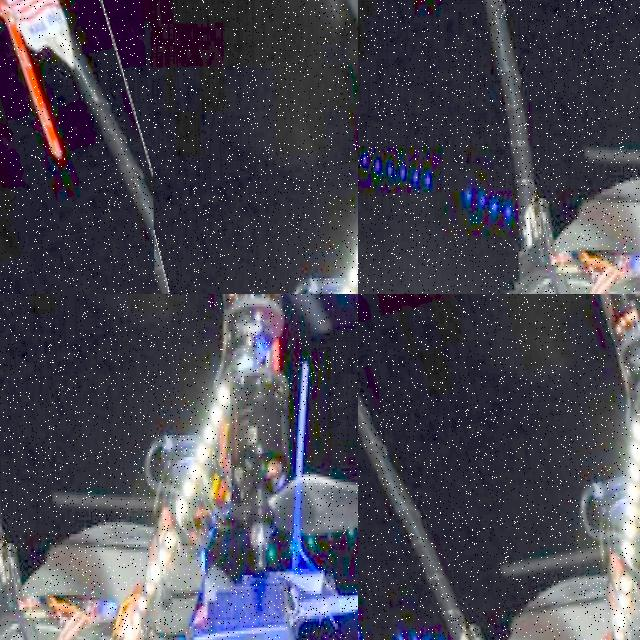drone: (358, 294, 640, 640), (0, 0, 156, 294)
